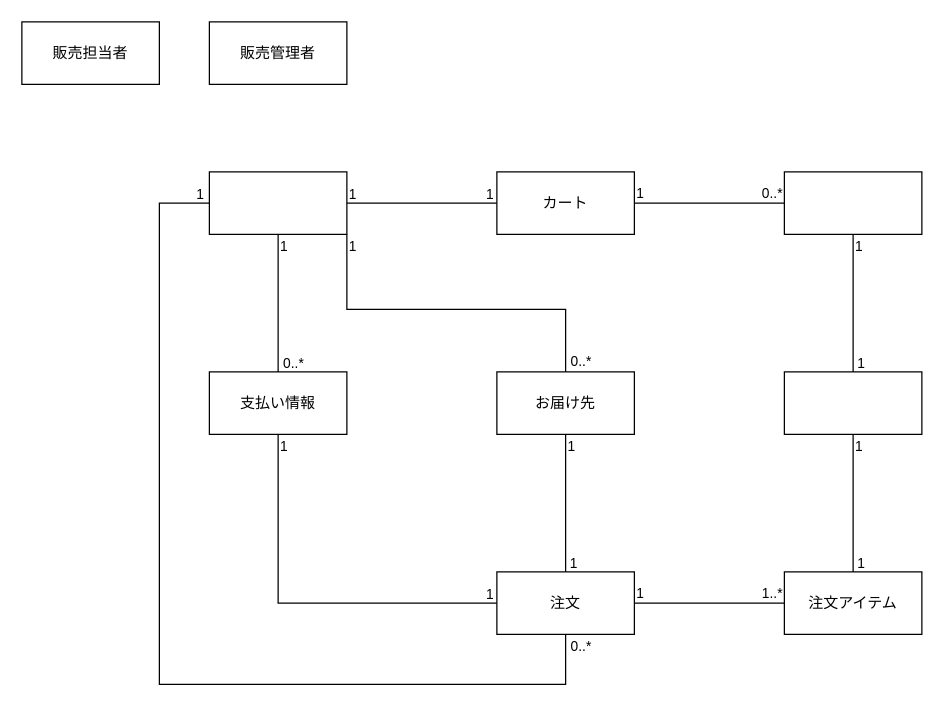
Image size: 944x708. Some labels were removed from this diagram. Each missing label, with the centre of its shape:
カートアイテム: [852,202]
商品: [852,402]
購入ユーザー: [277,202]
